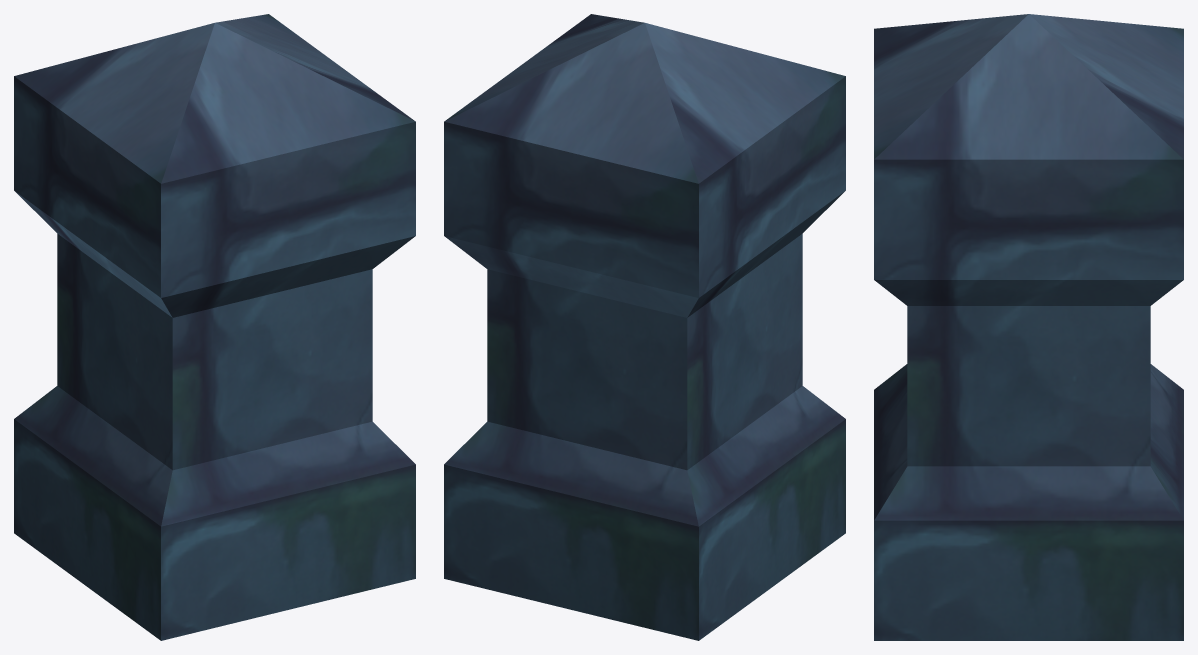
Rendered from column.gltf.
3 renders of one model, left to right at view 1: azimuth 30°, elevation 25°; view 2: azimuth 150°, elevation 25°; view 3: azimuth 270°, elevation 25°, orthographic. The views are drawn at different scales.
Parts seen in each view (by area): view 1: column; view 2: column; view 3: column.
Part boxes in pixels (bbox=[...]): column: bbox=[14, 14, 415, 640]; column: bbox=[444, 14, 845, 640]; column: bbox=[874, 14, 1183, 640].
Size of the model in its own units: 0.7 by 1.4 by 0.7.
1 material, 1 textured.
